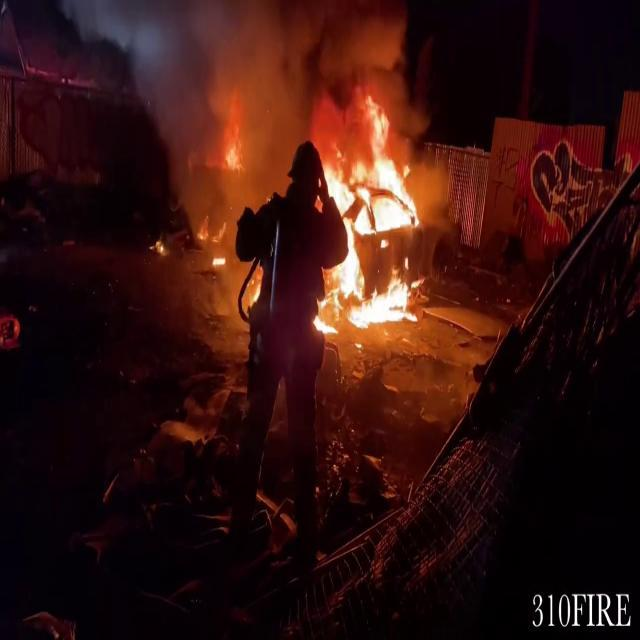Fire: (312, 95, 428, 333)
Smoke: (134, 2, 428, 200)
